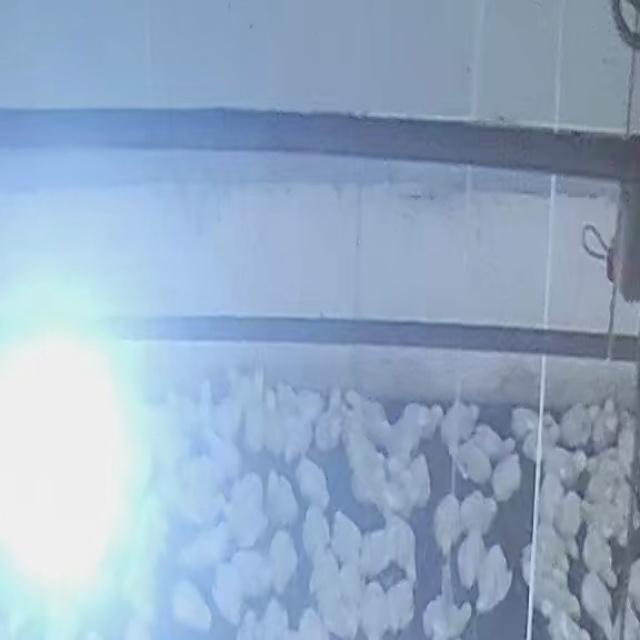chicken: (578, 456, 640, 514), (311, 560, 355, 638), (227, 473, 269, 547), (342, 434, 385, 505), (344, 389, 392, 449), (575, 492, 629, 545), (475, 542, 511, 614), (422, 590, 473, 640), (536, 572, 583, 626), (356, 400, 401, 456), (579, 568, 617, 633), (288, 386, 327, 448), (171, 578, 214, 634), (211, 563, 247, 624), (534, 524, 570, 584), (456, 489, 497, 540), (295, 455, 331, 513), (580, 524, 616, 582), (360, 520, 396, 577), (264, 468, 298, 528), (450, 438, 493, 485), (369, 475, 415, 518), (314, 393, 348, 451), (235, 548, 272, 600), (267, 529, 297, 593), (388, 512, 418, 576), (356, 579, 389, 637), (383, 414, 416, 472), (302, 504, 333, 565), (432, 494, 462, 555), (441, 399, 481, 444), (558, 400, 593, 451), (469, 424, 510, 467), (334, 513, 364, 570), (552, 488, 584, 541), (540, 443, 578, 486), (590, 398, 620, 452), (538, 471, 566, 527), (401, 402, 441, 440), (491, 452, 522, 501), (405, 452, 432, 508), (388, 577, 416, 629), (261, 390, 283, 456), (458, 532, 480, 590), (616, 416, 636, 476), (617, 590, 640, 640), (510, 406, 540, 443), (518, 542, 540, 591)
